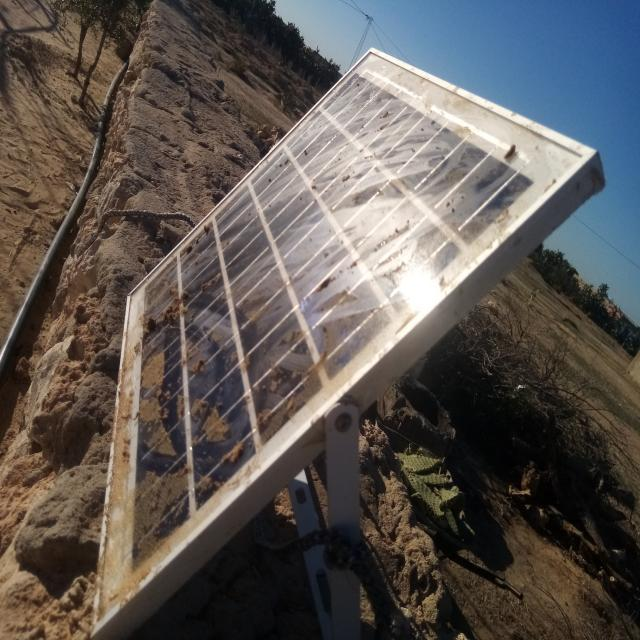faulty: (88, 49, 597, 640)
